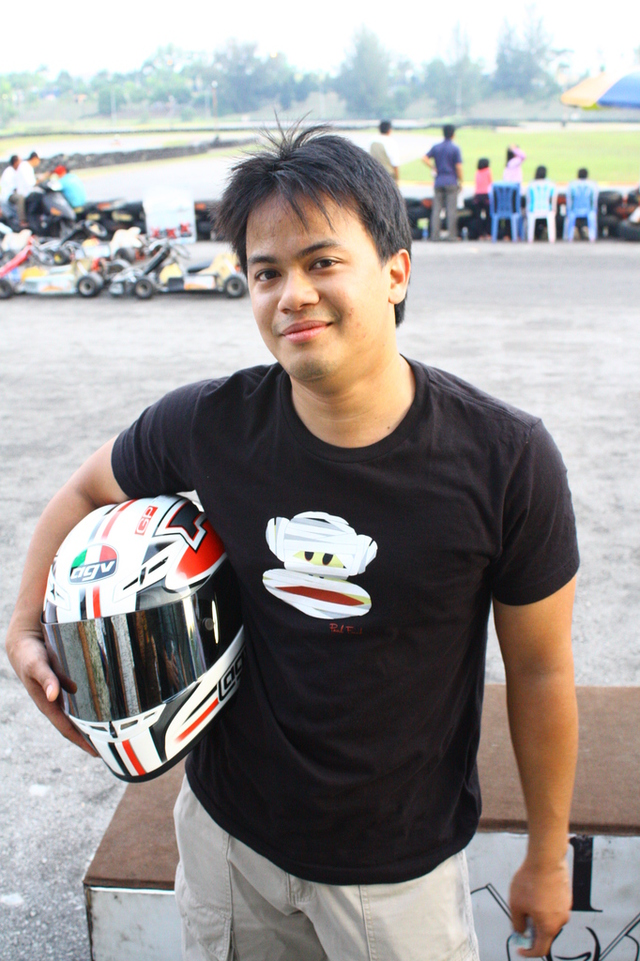helmet: (19, 510, 266, 773)
